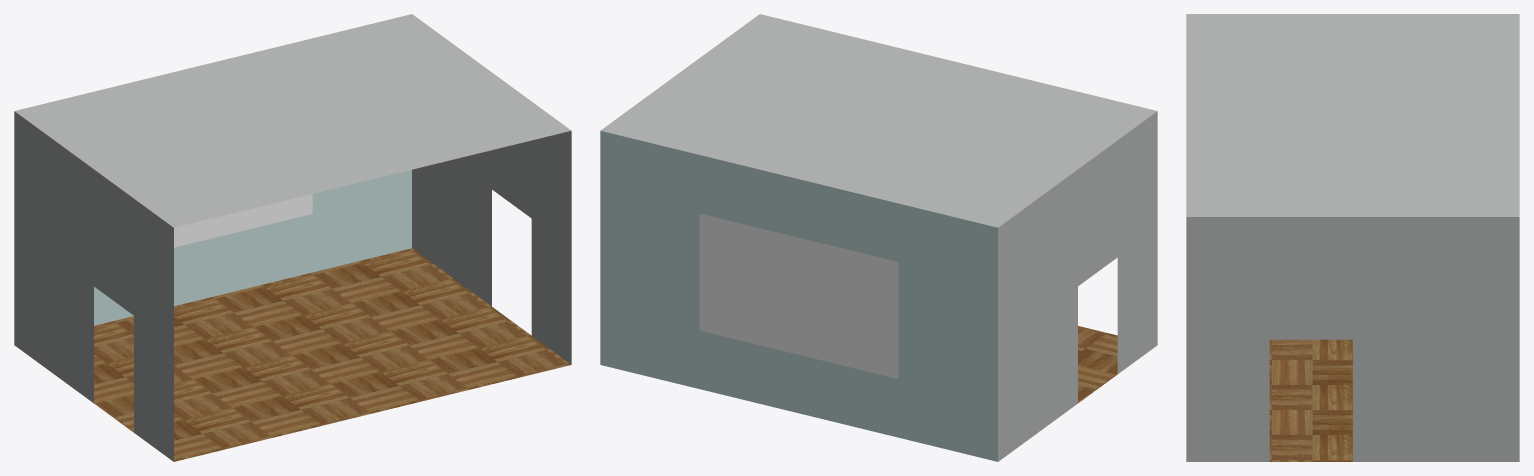
File: bedroom.gltf
3 renders of one model, left to right at view 1: azimuth 30°, elevation 25°; view 2: azimuth 150°, elevation 25°; view 3: azimuth 270°, elevation 25°, orthographic. The views are drawn at different scales.
Parts seen in each view (by area): view 1: Cube; view 2: Cube; view 3: Cube.
Boxes of the visible parts, box(x1,y1,x2,y2) form: Cube: box(14, 14, 571, 461); Cube: box(600, 14, 1157, 461); Cube: box(1186, 14, 1519, 461).
Size of the model in its own units: 3.84 by 2.16 by 2.67.
